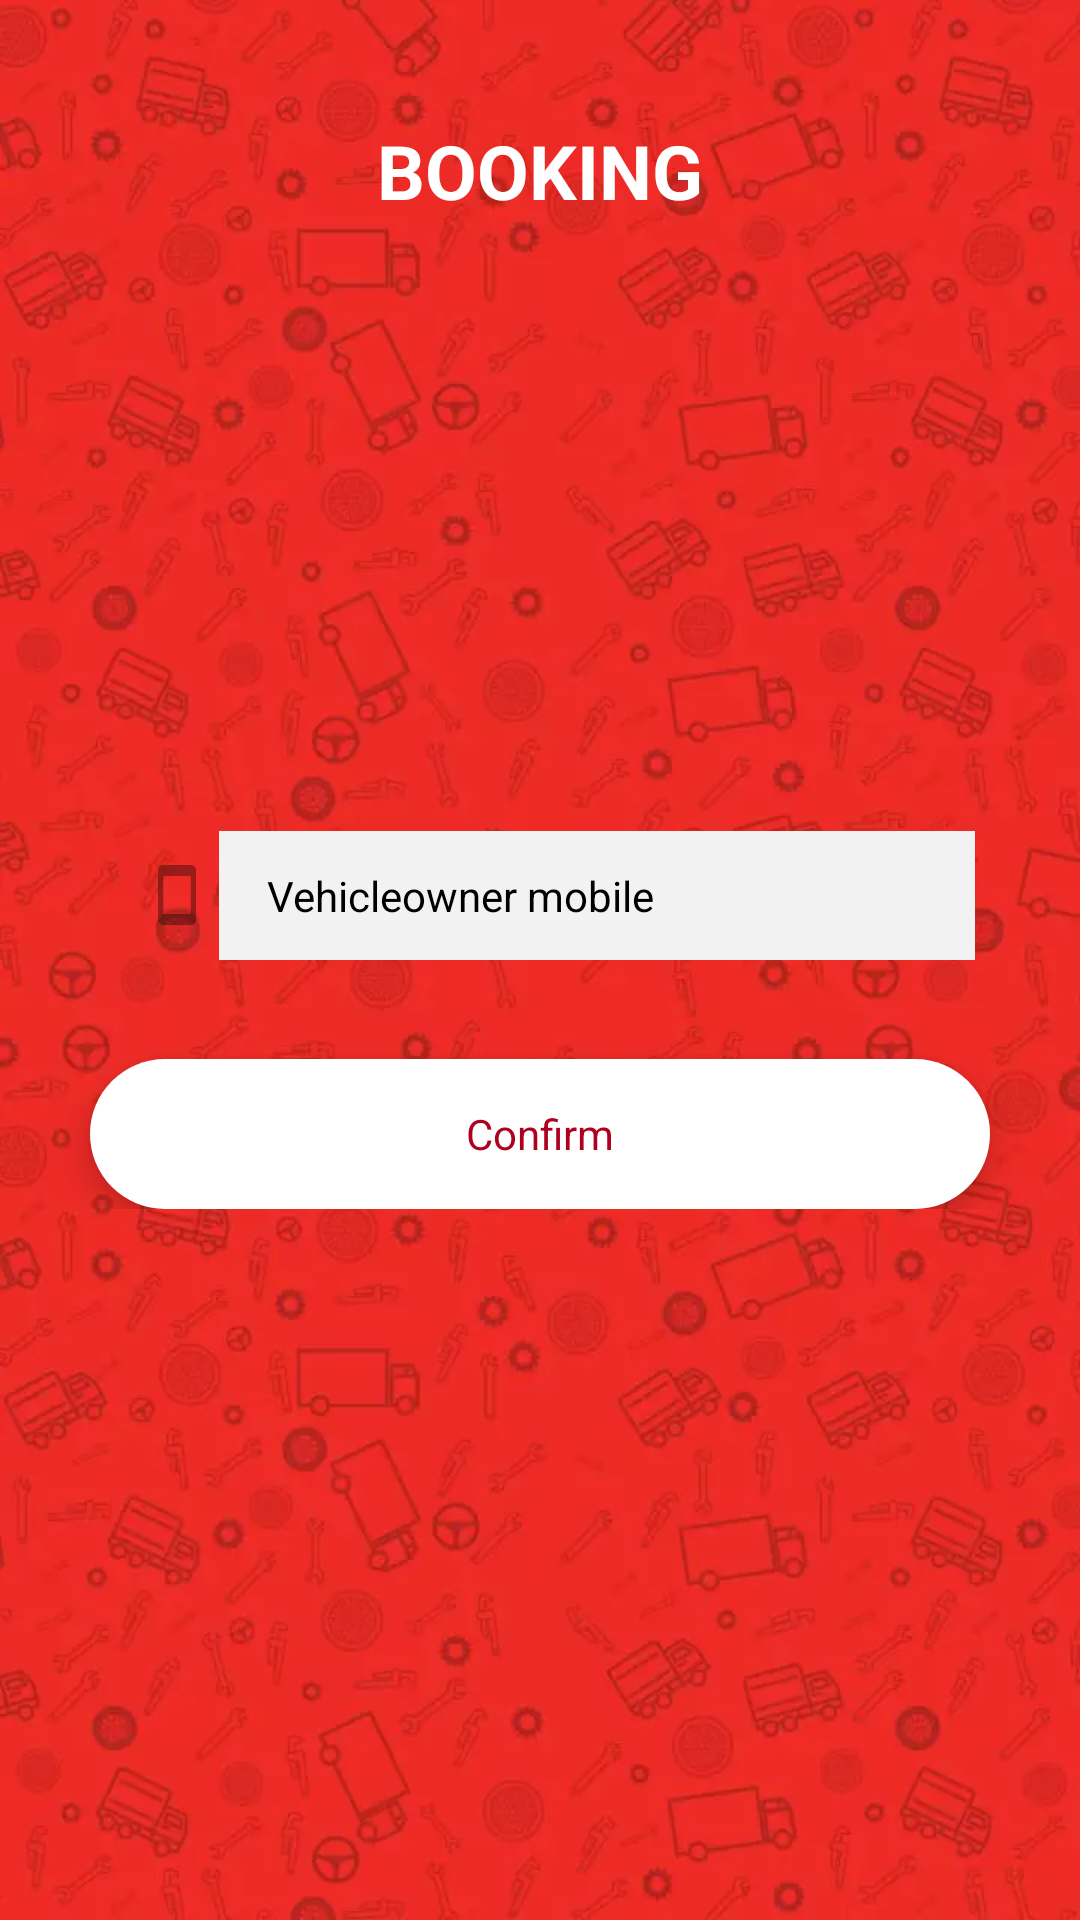

Icon click points for this 1080 × 1920 phone screenshot, format point (x, y):
phone number: point (176, 898)
